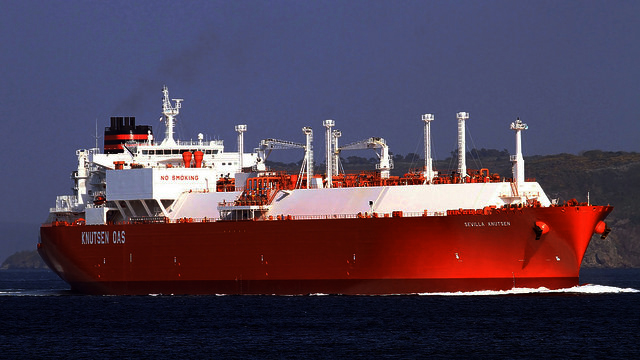LNG_ship: (34, 83, 615, 294)
